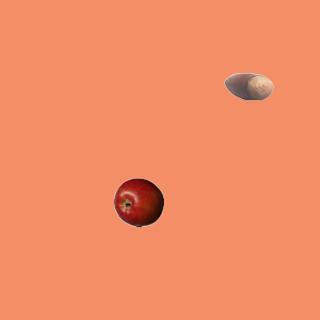Apple Braeburn: (113, 177, 163, 227)
Hazelnut: (223, 61, 273, 111)
